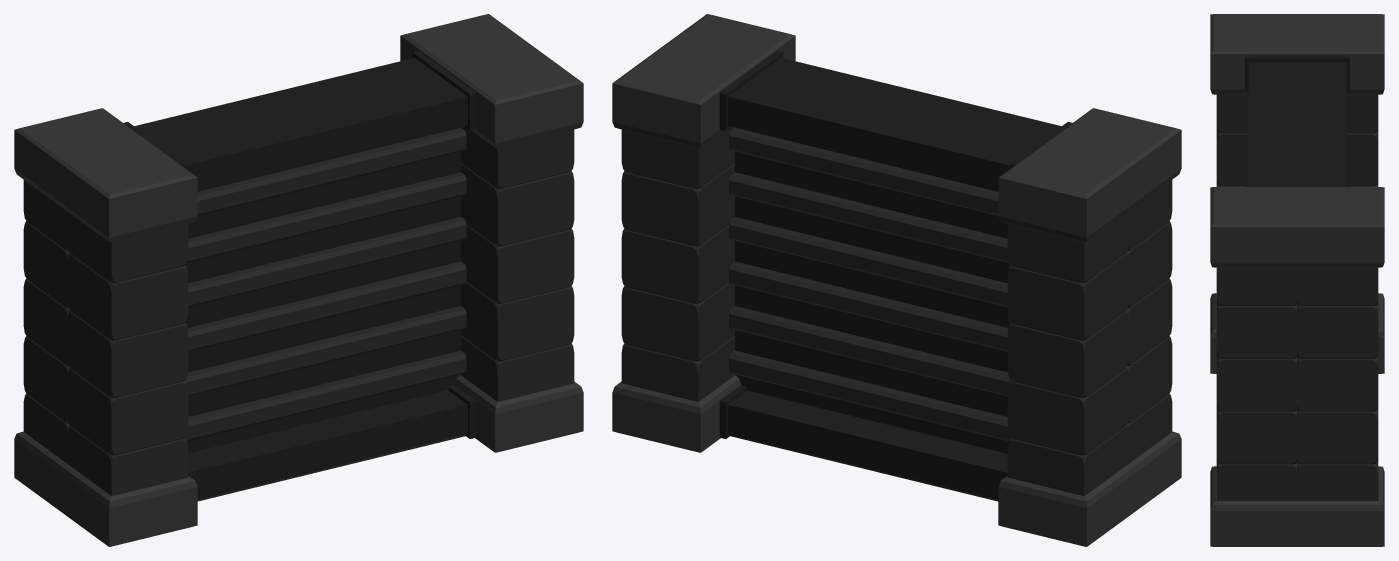
The model's file is Wall_03.fbx.
The picture shows the model from 3 angles, left to right: view 1: azimuth 30°, elevation 25°; view 2: azimuth 150°, elevation 25°; view 3: azimuth 270°, elevation 25°; orthographic projection. The views are drawn at different scales.
Parts seen in each view (by area): view 1: Wall_03; view 2: Wall_03; view 3: Wall_03.
Boxes of the visible parts, bbox=[...] form: Wall_03: bbox=[14, 14, 583, 546]; Wall_03: bbox=[612, 14, 1181, 546]; Wall_03: bbox=[1210, 14, 1384, 546].
Bounding box in the file's own units: 1598 × 1175 × 553.
